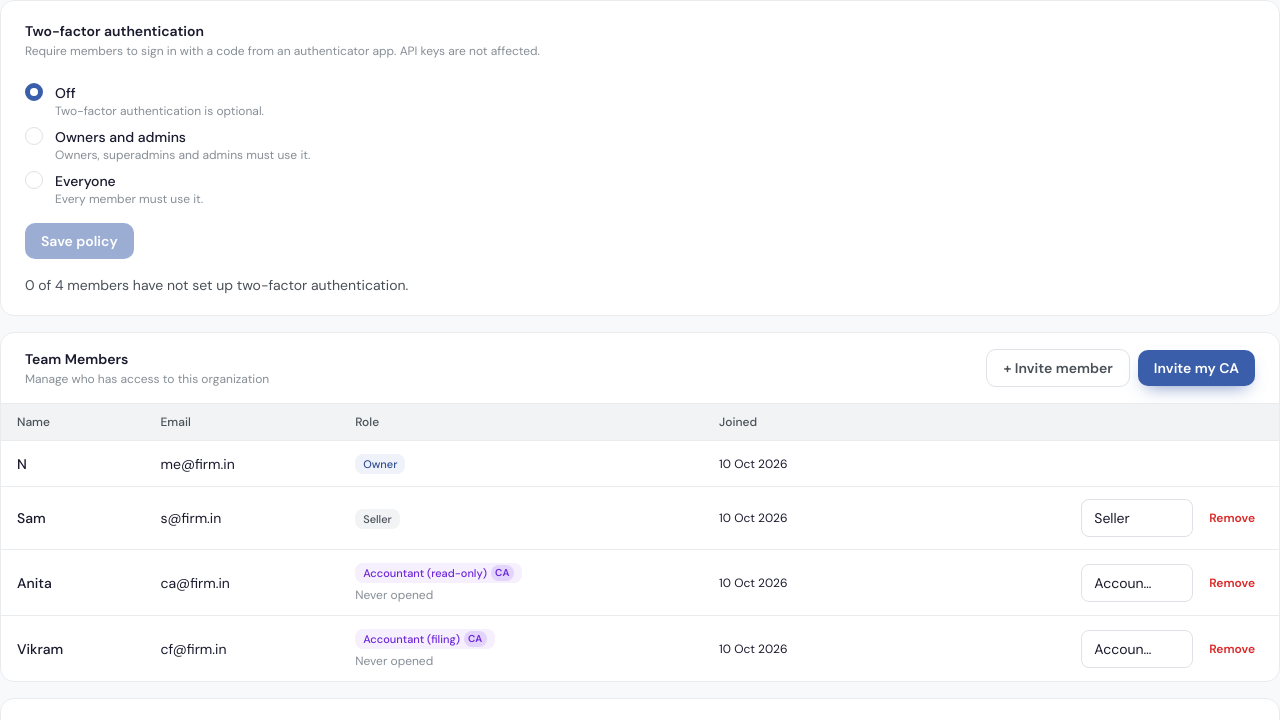
Test: Invite your CA dialog › sends the chosen role and email, then shows the link and the 'We emailed them' line
The width and height of the screenshot is (1280, 720).
Click the button "Invite my CA" at (1196, 368), box [1138,350,1255,386]
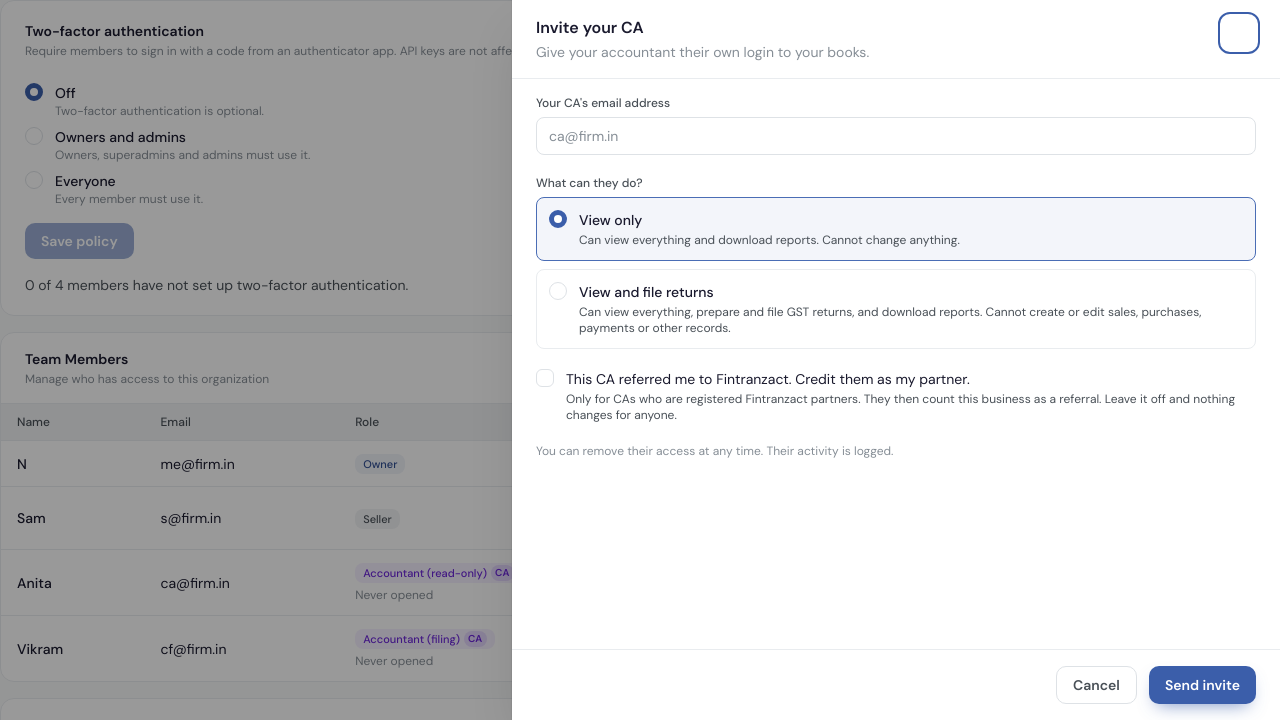
Type "Anita.Shah@Firm.IN" into the field labelled "Your CA's email address" at (896, 136), box [536,117,1256,155]
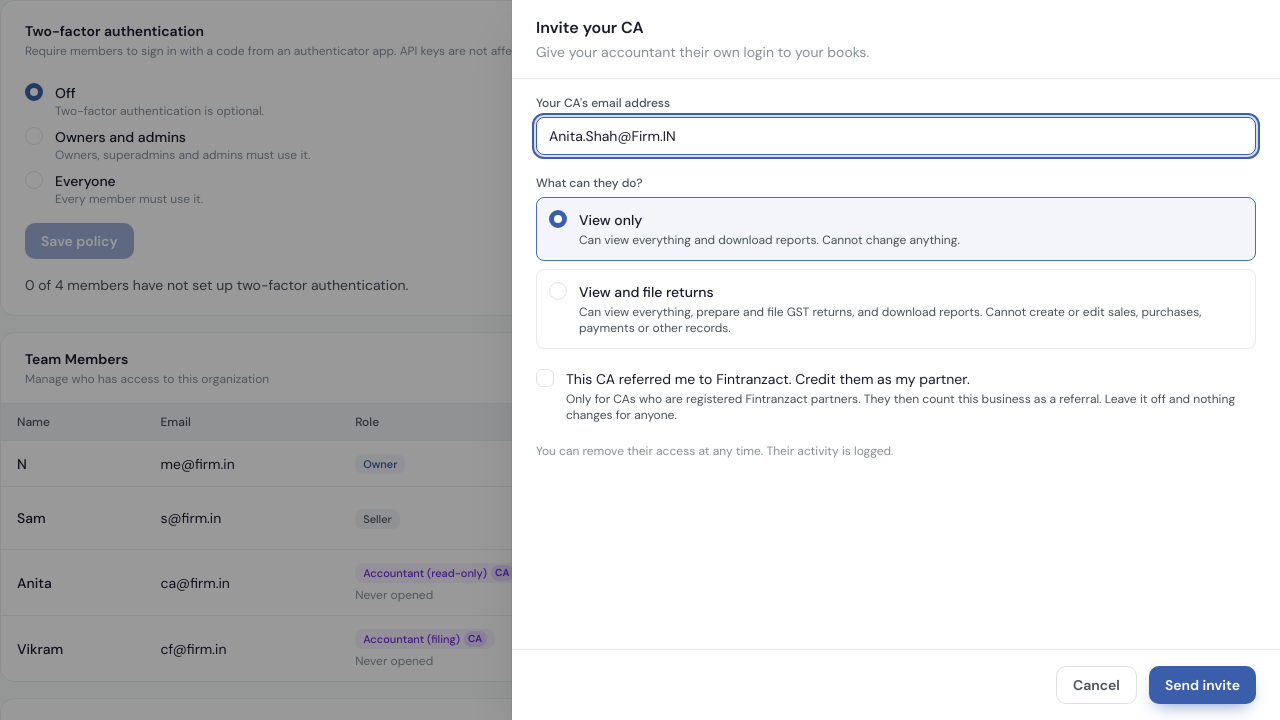
Click the radio button labelled "View and file returns" at (558, 291), box [549,282,567,300]
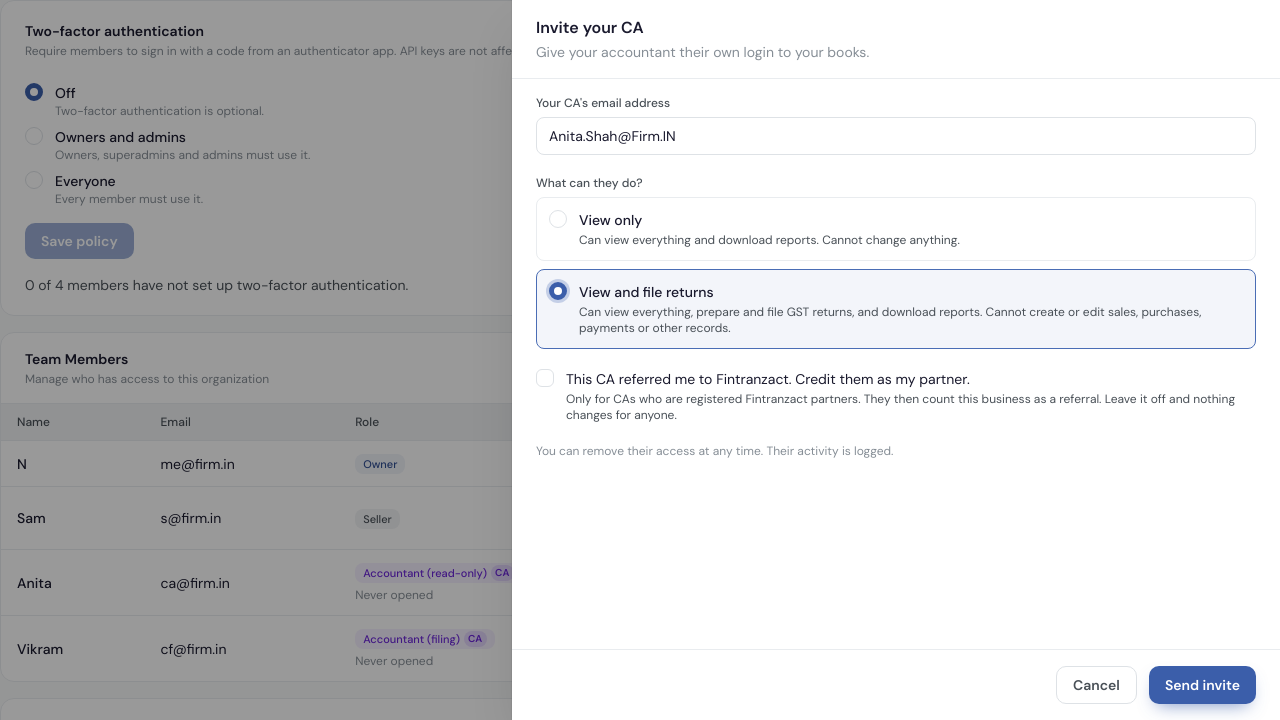
Click the button "Send invite" at (1202, 685), box [1149,666,1256,704]
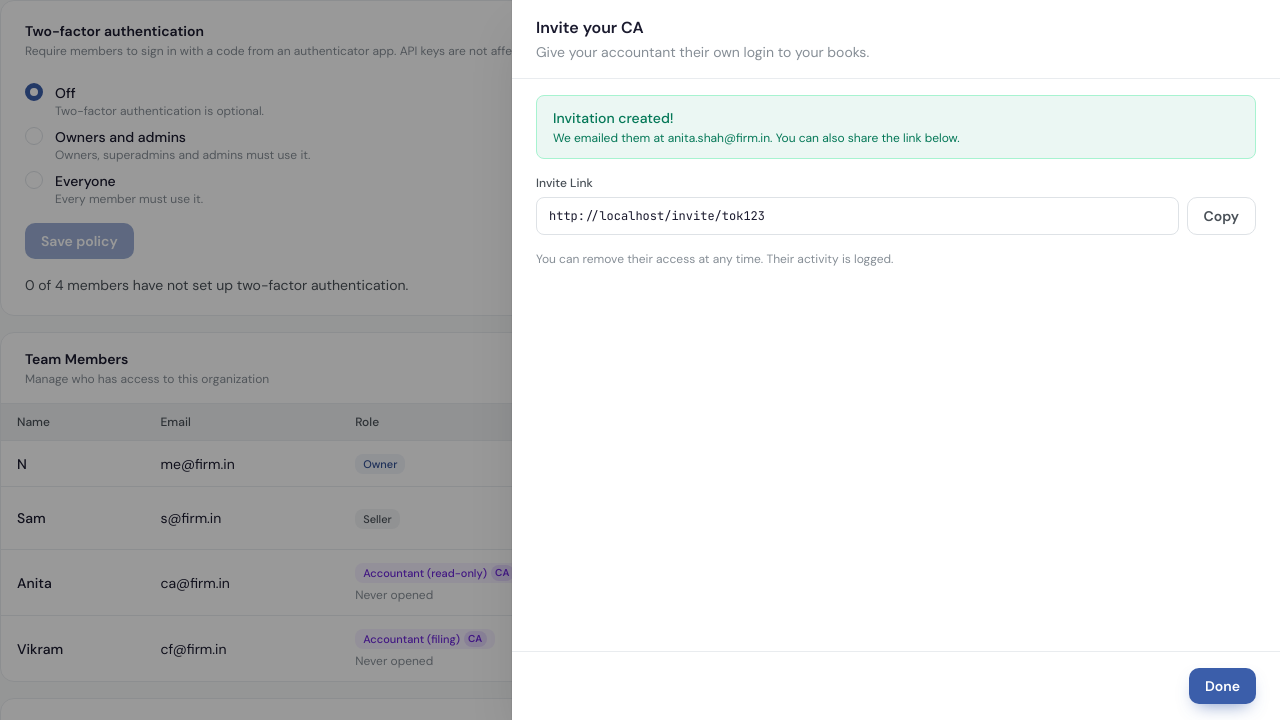
Expected: the text with test id "ca-emailed" shows "We emailed them at anita.shah@firm.in", [553,130,960,146]
Expected: the button "Copy" is shown, [1187,197,1256,235]
